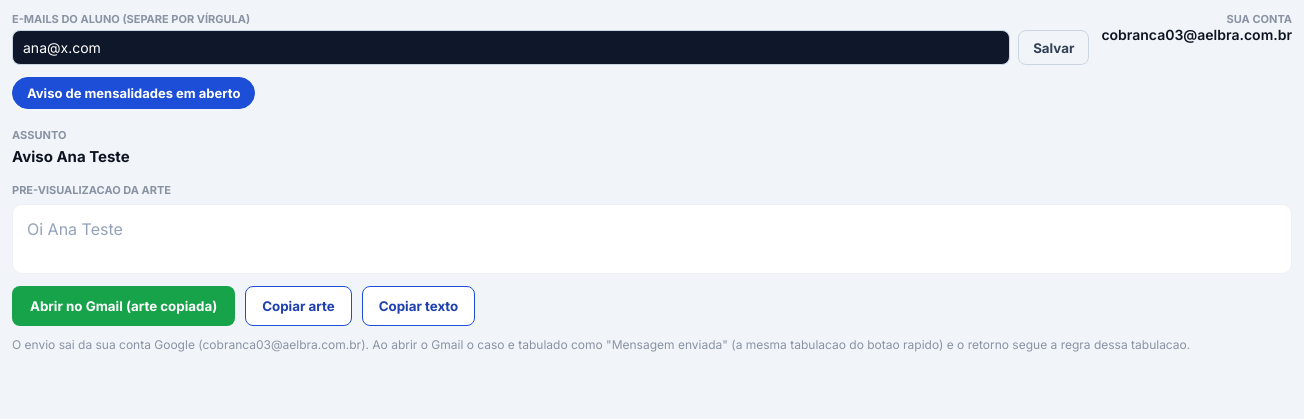
Test case: EmailAlunoUnificado › compromisso futuro que o operador já marcou não é apagado pelo e-mail
The image size is (1304, 419).
Click the button "Abrir no Gmail (arte copiada)": (124, 306) [12,286,235,326]
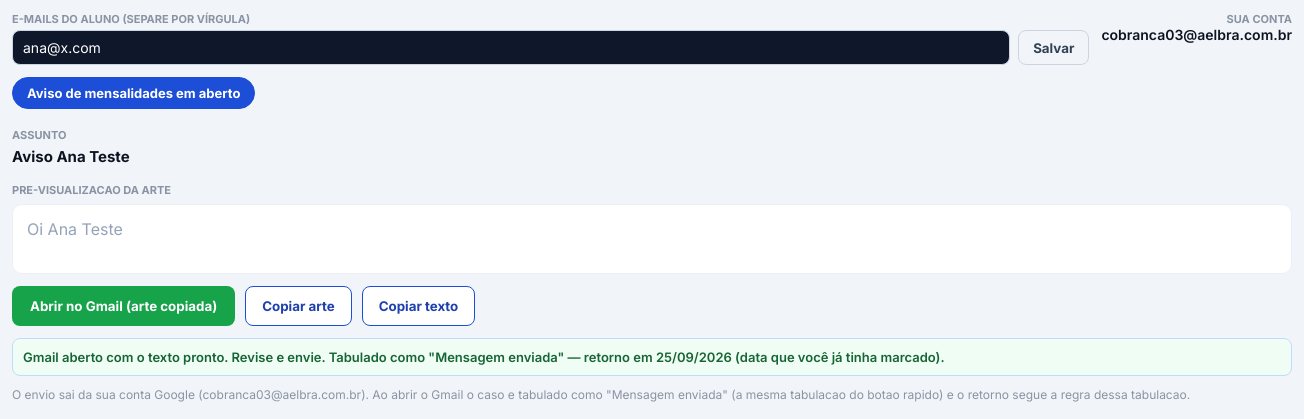
Result: the text "retorno em 25/09/2026 (data que você já tinha marcado)" is shown at [23,349,944,365]
